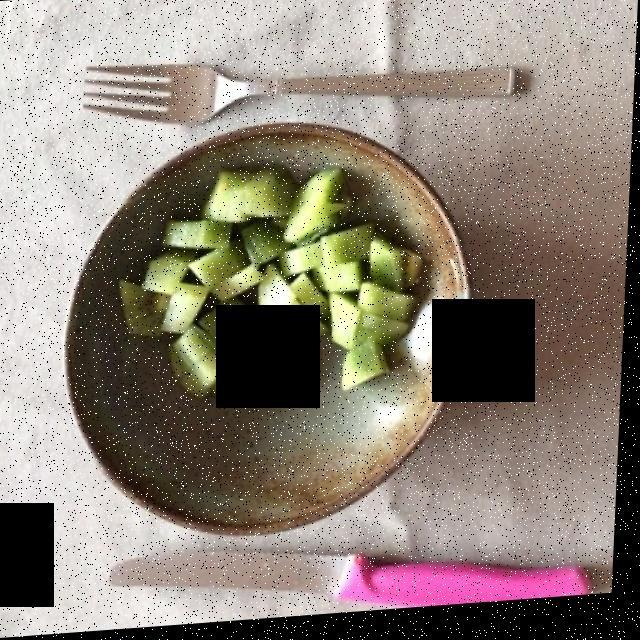kiwi: (128, 168, 425, 405)
